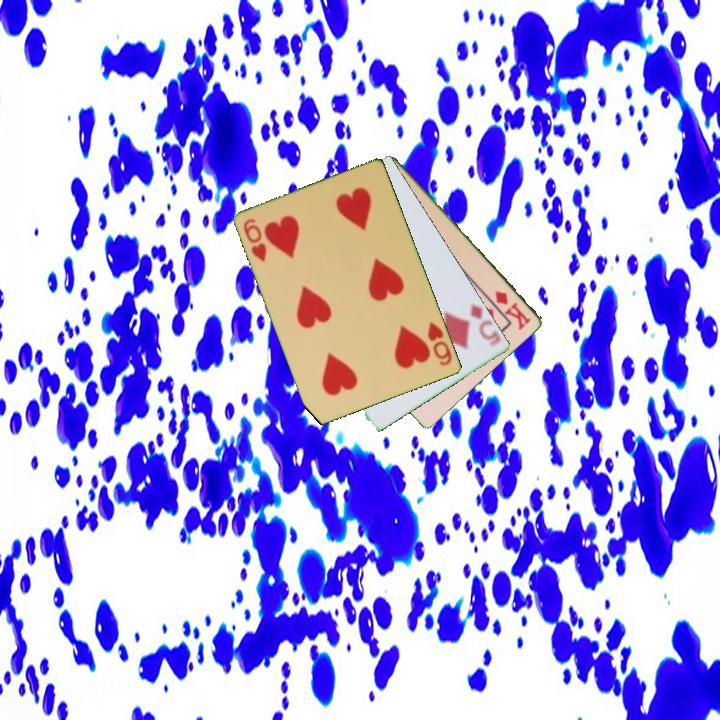5d: (467, 300, 504, 349)
6h: (424, 318, 455, 369), (240, 215, 270, 265)
Kd: (492, 287, 534, 332)
